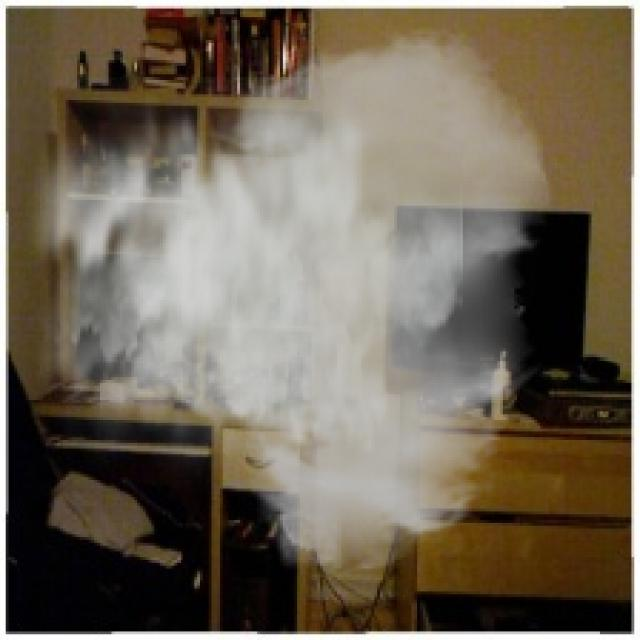smoke: (3, 23, 554, 577)
